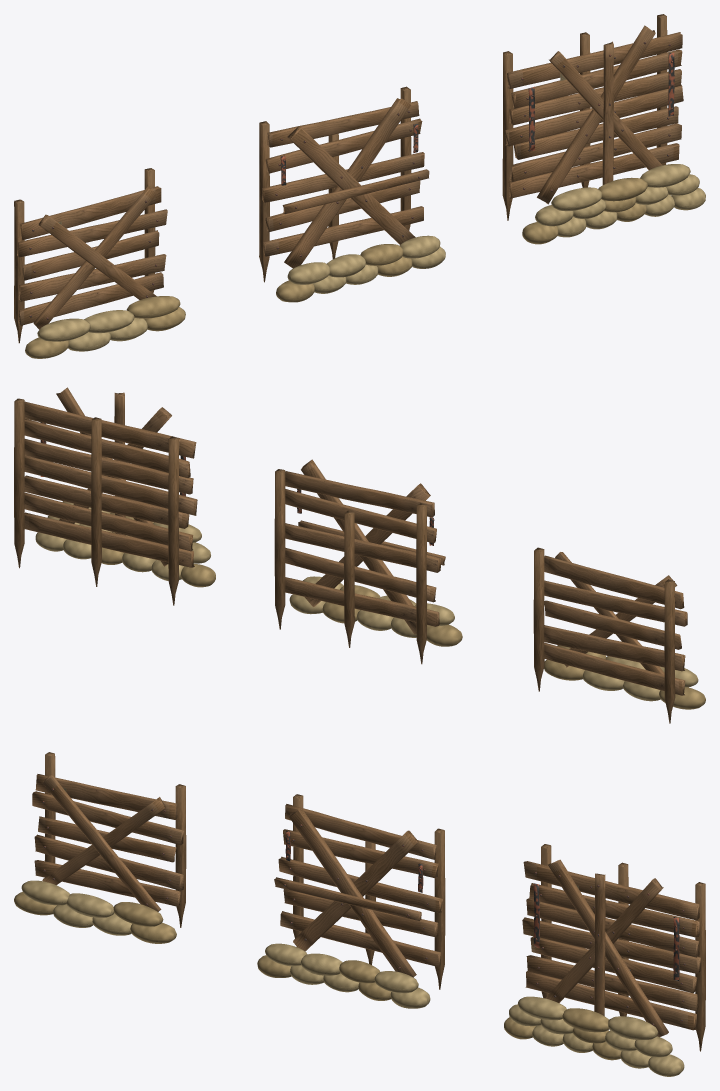
File: PROJECT_Z_Wooden_Barricade_Kit_3_Variations.glb
The picture shows the model from 3 angles, top to bottom: view 1: azimuth 30°, elevation 25°; view 2: azimuth 150°, elevation 25°; view 3: azimuth 330°, elevation 25°; orthographic projection.
Parts seen in each view (by area): view 1: VAR03_Fortified_184cm, VAR02_CrossBraced_170cm, VAR01_Scavenged_Window_160cm, VAR02_CrossBraced_170cm__CrossBar_NE_to_SW, VAR02_CrossBraced_170cm__CrossBar_NW_to_SE, VAR03_Fortified_184cm__HeavyDiagonal_SW_to_NE, VAR01_Scavenged_Window_160cm__CrossBrace_Upward, VAR03_Fortified_184cm__HeavyDiagonal_NW_to_SE, VAR01_Scavenged_Window_160cm__CrossBrace_Downward, VAR03_Fortified_184cm__Center_LockingRail, VAR02_CrossBraced_170cm__Midline_RetainingStrip, VAR02_CrossBraced_170cm__Stake_Left_Point (+3 smaller); view 2: VAR03_Fortified_184cm, VAR02_CrossBraced_170cm, VAR01_Scavenged_Window_160cm, VAR03_Fortified_184cm__Stake_Right_Heavy, VAR03_Fortified_184cm__Stake_Centre_Heavy, VAR03_Fortified_184cm__Stake_Left_Heavy, VAR02_CrossBraced_170cm__Stake_Right_Point, VAR02_CrossBraced_170cm__Stake_Left_Point, VAR01_Scavenged_Window_160cm__Stake_Right_Point, VAR01_Scavenged_Window_160cm__Stake_Left_Point, VAR02_CrossBraced_170cm__Middle_Stud, VAR02_CrossBraced_170cm__CrossBar_NE_to_SW (+5 smaller); view 3: VAR03_Fortified_184cm, VAR02_CrossBraced_170cm, VAR01_Scavenged_Window_160cm, VAR02_CrossBraced_170cm__CrossBar_NW_to_SE, VAR03_Fortified_184cm__HeavyDiagonal_NW_to_SE, VAR02_CrossBraced_170cm__CrossBar_NE_to_SW, VAR01_Scavenged_Window_160cm__CrossBrace_Downward, VAR03_Fortified_184cm__HeavyDiagonal_SW_to_NE, VAR01_Scavenged_Window_160cm__CrossBrace_Upward, VAR03_Fortified_184cm__Center_LockingRail, VAR02_CrossBraced_170cm__Midline_RetainingStrip, VAR03_Fortified_184cm__Stake_Right_Heavy (+3 smaller).
Part boxes in pixels (x1=…): VAR03_Fortified_184cm: x1=504, y1=32, x2=705, y2=244; VAR02_CrossBraced_170cm: x1=262, y1=101, x2=445, y2=302; VAR01_Scavenged_Window_160cm: x1=17, y1=186, x2=185, y2=358; VAR02_CrossBraced_170cm__CrossBar_NE_to_SW: x1=284, y1=98, x2=410, y2=268; VAR02_CrossBraced_170cm__CrossBar_NW_to_SE: x1=287, y1=126, x2=415, y2=244; VAR03_Fortified_184cm__HeavyDiagonal_SW_to_NE: x1=537, y1=25, x2=655, y2=204; VAR01_Scavenged_Window_160cm__CrossBrace_Upward: x1=33, y1=186, x2=156, y2=329; VAR03_Fortified_184cm__HeavyDiagonal_NW_to_SE: x1=549, y1=51, x2=662, y2=169; VAR01_Scavenged_Window_160cm__CrossBrace_Downward: x1=38, y1=214, x2=156, y2=299; VAR03_Fortified_184cm__Center_LockingRail: x1=602, y1=41, x2=613, y2=184; VAR02_CrossBraced_170cm__Midline_RetainingStrip: x1=282, y1=169, x2=429, y2=213; VAR02_CrossBraced_170cm__Stake_Left_Point: x1=259, y1=121, x2=269, y2=282; VAR03_Fortified_184cm: x1=24, y1=401, x2=215, y2=587; VAR02_CrossBraced_170cm: x1=285, y1=471, x2=462, y2=646; VAR01_Scavenged_Window_160cm: x1=544, y1=555, x2=705, y2=709; VAR03_Fortified_184cm__Stake_Right_Heavy: x1=14, y1=398, x2=24, y2=568; VAR03_Fortified_184cm__Stake_Centre_Heavy: x1=91, y1=417, x2=101, y2=586; VAR03_Fortified_184cm__Stake_Left_Heavy: x1=168, y1=436, x2=178, y2=605; VAR02_CrossBraced_170cm__Stake_Right_Point: x1=274, y1=469, x2=285, y2=629; VAR02_CrossBraced_170cm__Stake_Left_Point: x1=416, y1=503, x2=426, y2=664; VAR01_Scavenged_Window_160cm__Stake_Right_Point: x1=533, y1=547, x2=544, y2=691; VAR01_Scavenged_Window_160cm__Stake_Left_Point: x1=664, y1=579, x2=675, y2=723; VAR02_CrossBraced_170cm__Middle_Stud: x1=344, y1=510, x2=354, y2=647; VAR02_CrossBraced_170cm__CrossBar_NE_to_SW: x1=301, y1=459, x2=416, y2=634; VAR03_Fortified_184cm: x1=504, y1=861, x2=701, y2=1076; VAR02_CrossBraced_170cm: x1=257, y1=804, x2=442, y2=1008; VAR01_Scavenged_Window_160cm: x1=14, y1=774, x2=184, y2=943; VAR02_CrossBraced_170cm__CrossBar_NW_to_SE: x1=289, y1=808, x2=416, y2=977; VAR03_Fortified_184cm__HeavyDiagonal_NW_to_SE: x1=548, y1=859, x2=668, y2=1036; VAR02_CrossBraced_170cm__CrossBar_NE_to_SW: x1=293, y1=830, x2=418, y2=951; VAR01_Scavenged_Window_160cm__CrossBrace_Downward: x1=42, y1=774, x2=161, y2=911; VAR03_Fortified_184cm__HeavyDiagonal_SW_to_NE: x1=545, y1=878, x2=663, y2=1003; VAR01_Scavenged_Window_160cm__CrossBrace_Upward: x1=42, y1=797, x2=165, y2=885; VAR03_Fortified_184cm__Center_LockingRail: x1=594, y1=873, x2=605, y2=1015; VAR02_CrossBraced_170cm__Midline_RetainingStrip: x1=274, y1=877, x2=421, y2=921; VAR03_Fortified_184cm__Stake_Right_Heavy: x1=695, y1=882, x2=705, y2=1051.
Size of the model in its own units: 7.41 by 1.88 by 0.866.
6 materials, 6 textured.
